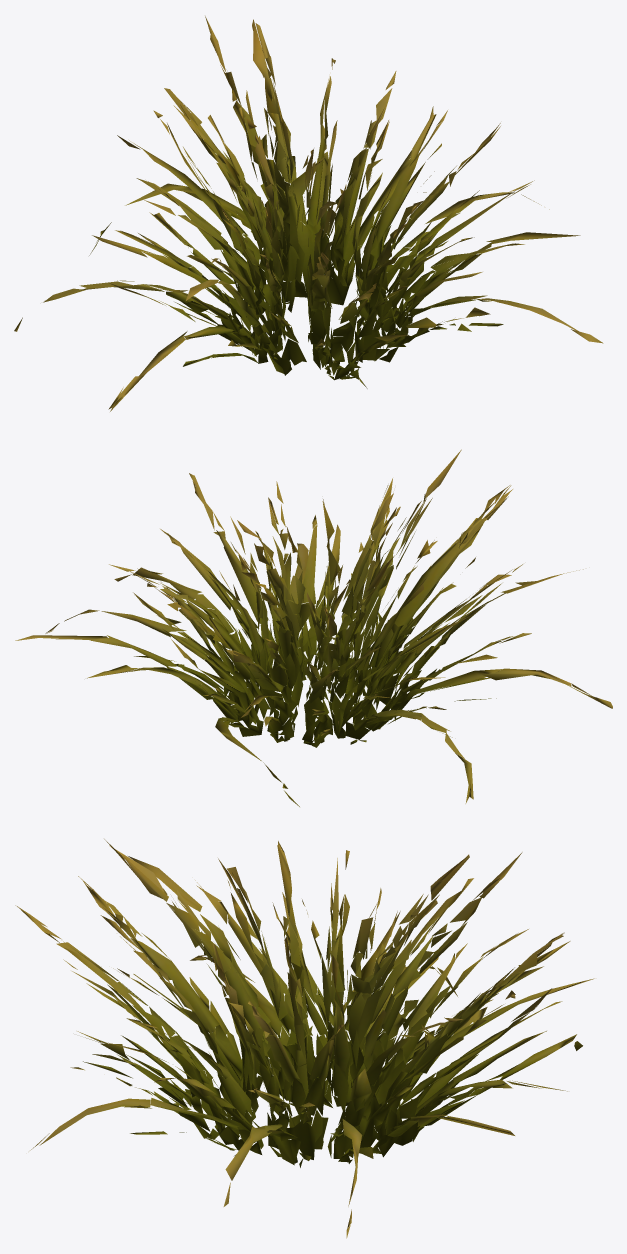
Rendered from desert_grass_fine_low.glb.
3 views of the same model, one above another, from view 1: azimuth 30°, elevation 25°; view 2: azimuth 150°, elevation 25°; view 3: azimuth 270°, elevation 25° (orthographic). The views are drawn at different scales.
Parts seen in each view (by area): view 1: desert_grass_fine_low; view 2: desert_grass_fine_low; view 3: desert_grass_fine_low.
Part boxes in pixels (<box>): desert_grass_fine_low: <box>14,16,603,411</box>; desert_grass_fine_low: <box>15,449,612,806</box>; desert_grass_fine_low: <box>15,839,594,1238</box>.
Bounding box in the file's own units: 1.4 × 0.6576 × 1.25.
1 material, 1 textured.
